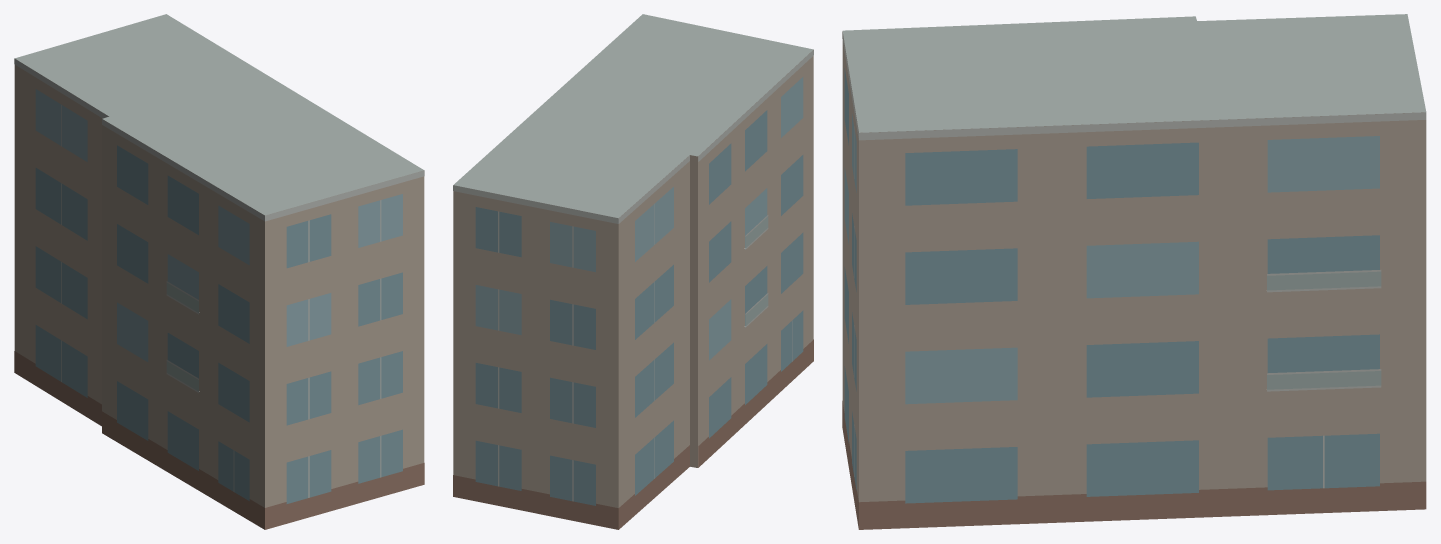
The model's file is survey-upis-33038891.glb.
3 renders of one model, left to right at view 1: azimuth 30°, elevation 25°; view 2: azimuth 150°, elevation 25°; view 3: azimuth 270°, elevation 25°, orthographic. The views are drawn at different scales.
Visible parts, largest first — view 1: survey-upis-33038891.tmp; view 2: survey-upis-33038891.tmp; view 3: survey-upis-33038891.tmp.
Boxes of the visible parts, x1,y1,x2,y2 form: survey-upis-33038891.tmp: [14, 14, 424, 529]; survey-upis-33038891.tmp: [453, 14, 813, 529]; survey-upis-33038891.tmp: [842, 14, 1426, 529].
Bounding box in the file's own units: 8.22 × 12.8 × 17.07.
